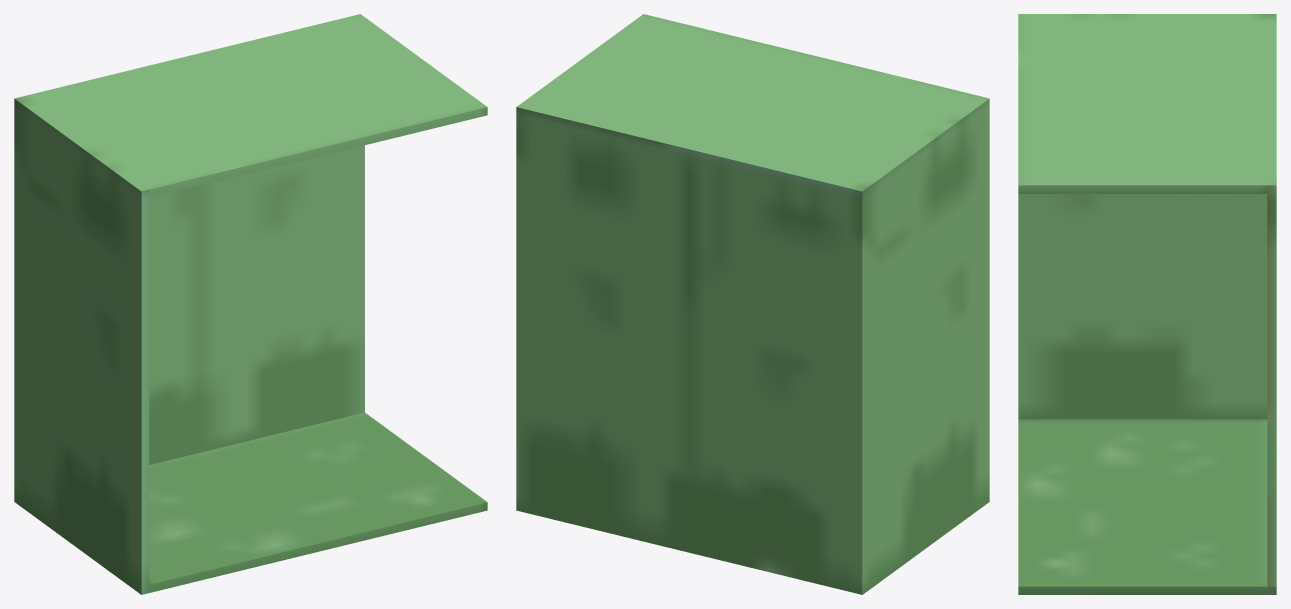
File: BuildingModule_Interior_E_00.fbx
3 renders of one model, left to right at view 1: azimuth 30°, elevation 25°; view 2: azimuth 150°, elevation 25°; view 3: azimuth 270°, elevation 25°, orthographic.
Parts seen in each view (by area): view 1: BuildingModule_Interior_E_00; view 2: BuildingModule_Interior_E_00; view 3: BuildingModule_Interior_E_00.
Boxes of the visible parts, bbox=[...] form: BuildingModule_Interior_E_00: bbox=[14, 14, 487, 594]; BuildingModule_Interior_E_00: bbox=[516, 14, 989, 594]; BuildingModule_Interior_E_00: bbox=[1018, 14, 1276, 594].
Size of the model in its own units: 220 by 245 by 140.
